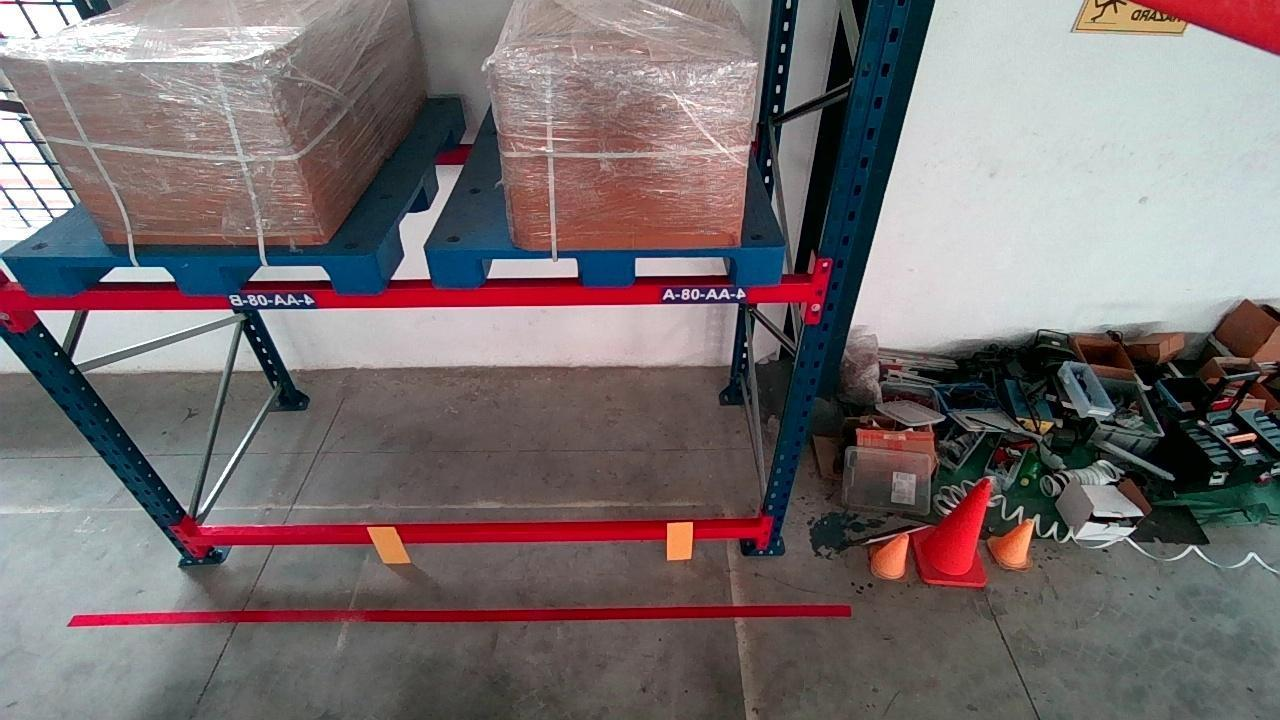h_rack: (8, 275, 808, 312), (198, 521, 759, 550)
orange_strip: (369, 525, 409, 563), (665, 520, 695, 560)
red_line: (63, 602, 852, 632)
small_pallet: (24, 253, 384, 296), (438, 246, 782, 284)
